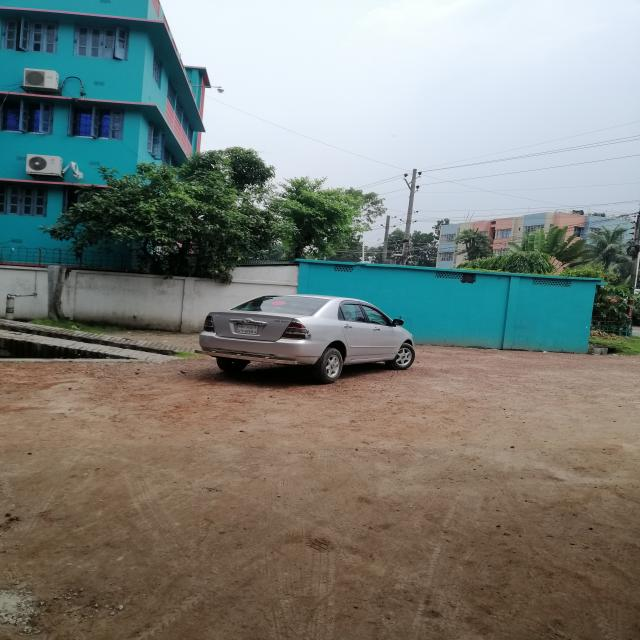Car: (196, 287, 424, 398)
